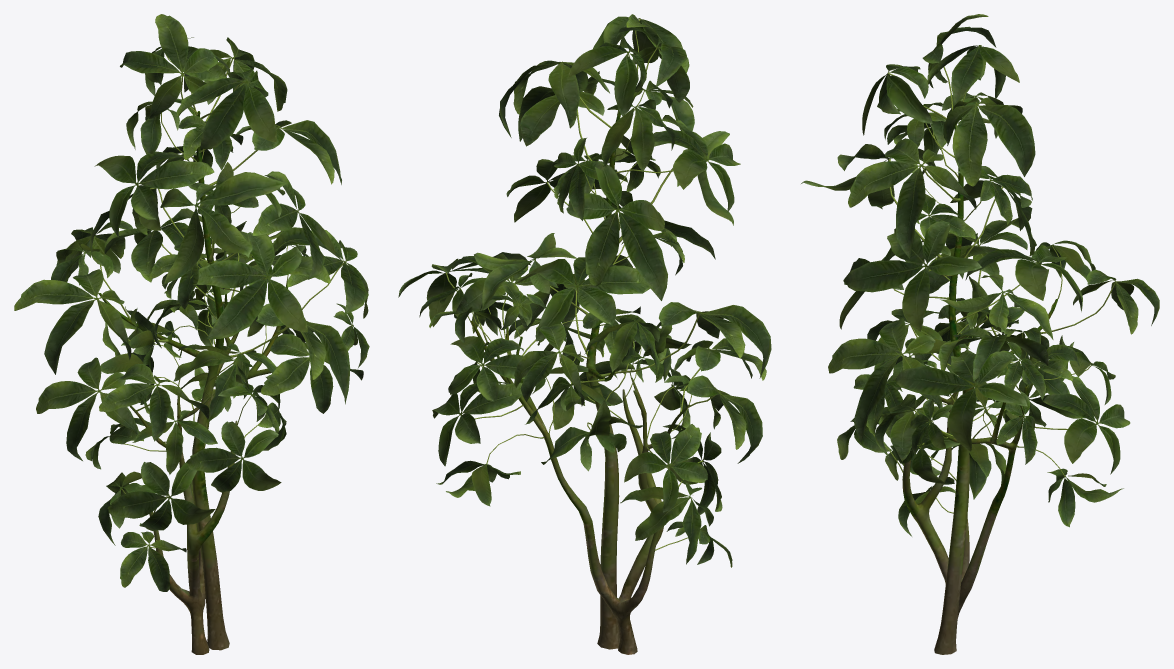
File: pachira_aquatica_01.glb
3 renders of one model, left to right at view 1: azimuth 30°, elevation 25°; view 2: azimuth 150°, elevation 25°; view 3: azimuth 270°, elevation 25°, orthographic. The views are drawn at different scales.
Parts seen in each view (by area): view 1: pachira_aquatica_01_leaves_d, pachira_aquatica_01_bark_d; view 2: pachira_aquatica_01_leaves_d, pachira_aquatica_01_bark_d; view 3: pachira_aquatica_01_leaves_d, pachira_aquatica_01_bark_d.
Boxes of the visible parts, bbox=[...] form: pachira_aquatica_01_leaves_d: bbox=[14, 14, 369, 591]; pachira_aquatica_01_bark_d: bbox=[99, 111, 287, 654]; pachira_aquatica_01_leaves_d: bbox=[398, 14, 771, 567]; pachira_aquatica_01_bark_d: bbox=[471, 112, 689, 654]; pachira_aquatica_01_leaves_d: bbox=[801, 14, 1159, 536]; pachira_aquatica_01_bark_d: bbox=[902, 126, 1057, 654].
Bounding box in the file's own units: 1.05 × 1.9 × 0.997.
2 materials, 2 textured.
